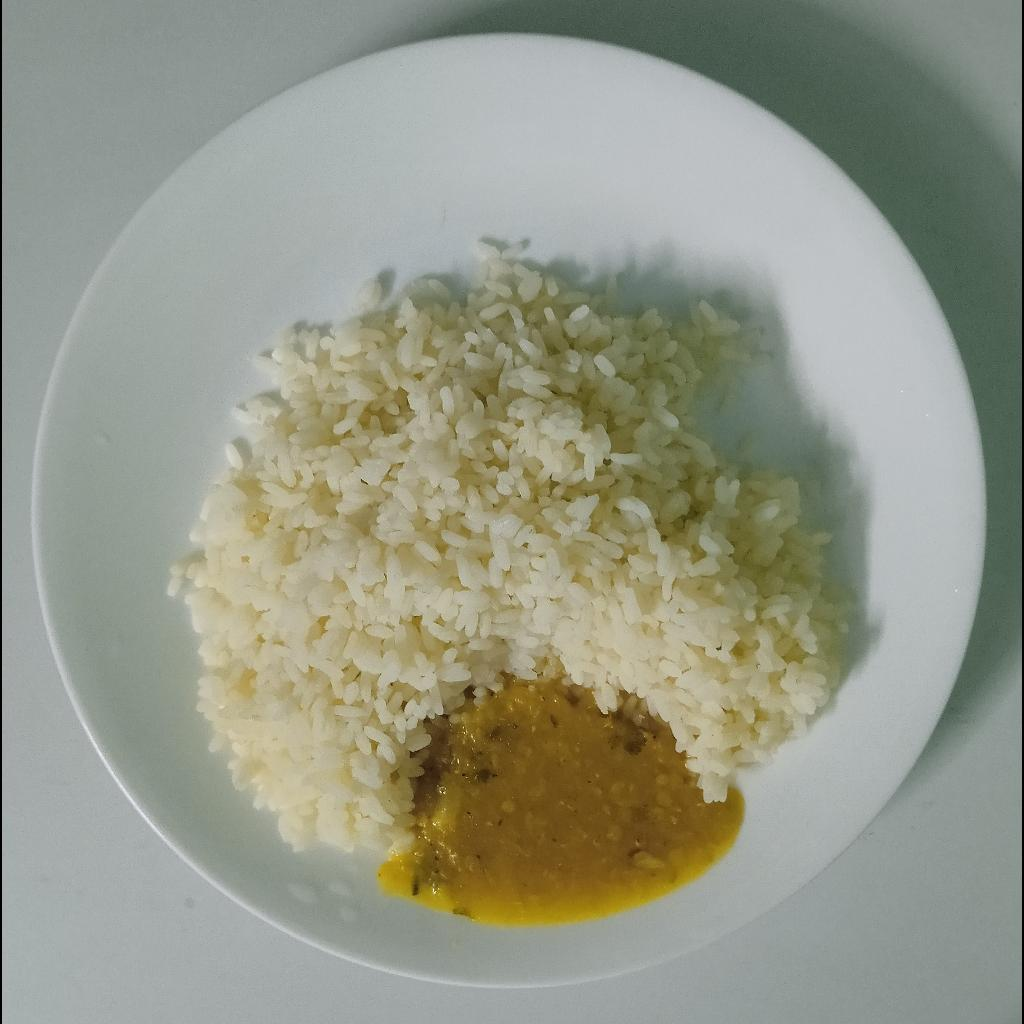daal: (370, 687, 746, 923)
rice: (170, 239, 862, 850)
